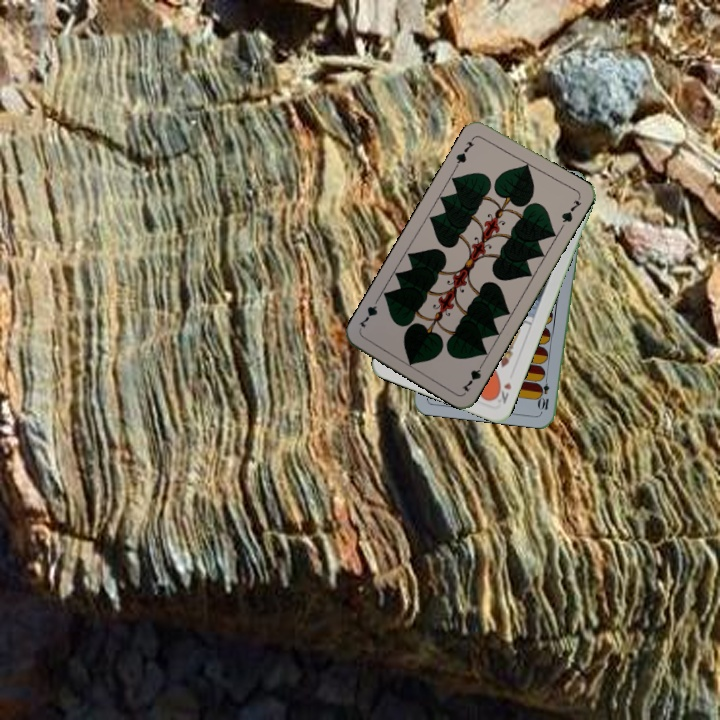E10: (536, 372, 552, 412)
G7: (458, 357, 487, 395), (452, 133, 477, 170)
HK: (490, 378, 514, 406)
